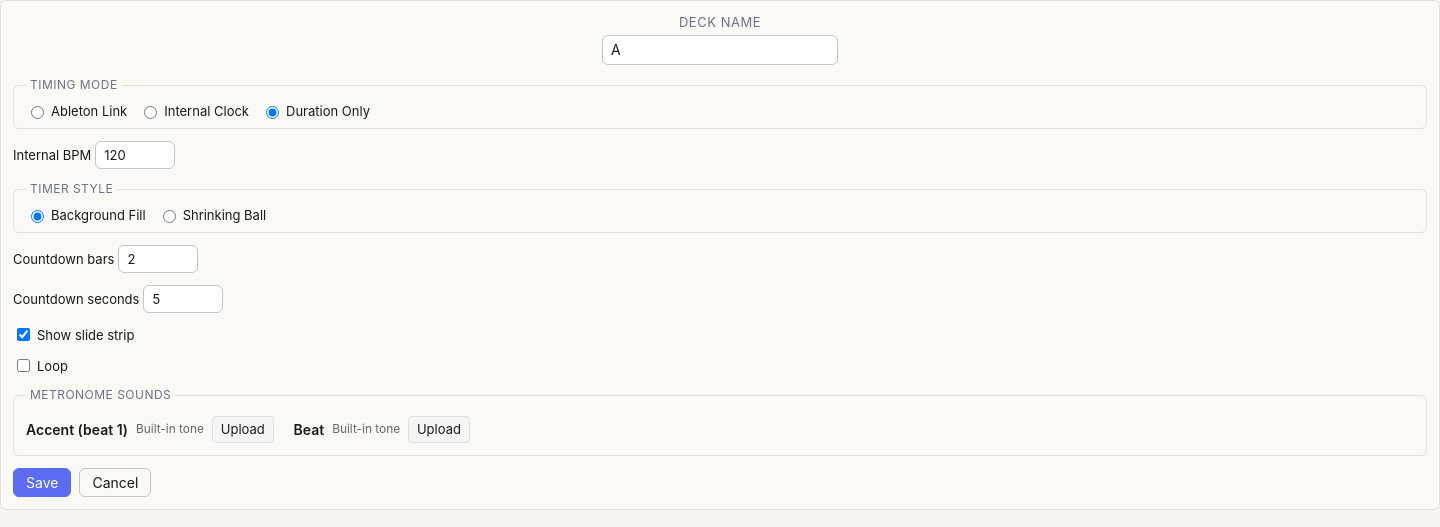
Test: DeckSettings › Cancel reverts edits to the persisted values
Step 1. Replace the text in the number field labelled "Internal BPM" with "60" → (135, 155), box [95,141,175,169]
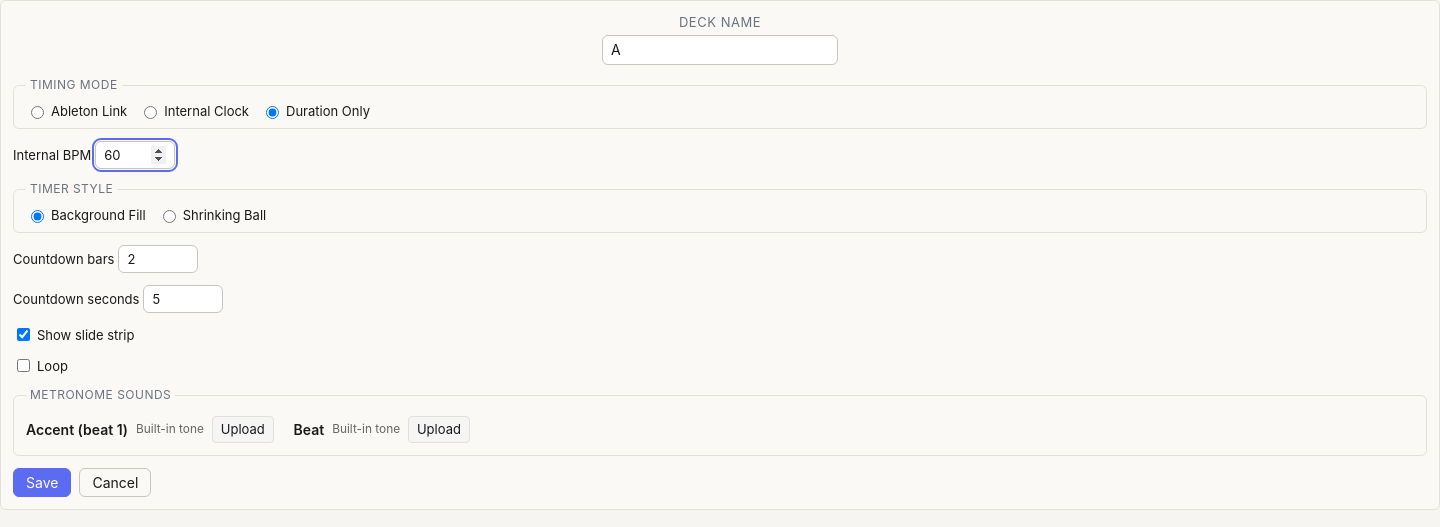
Step 2. Click the button "Cancel" → (115, 483), box [79,468,151,497]
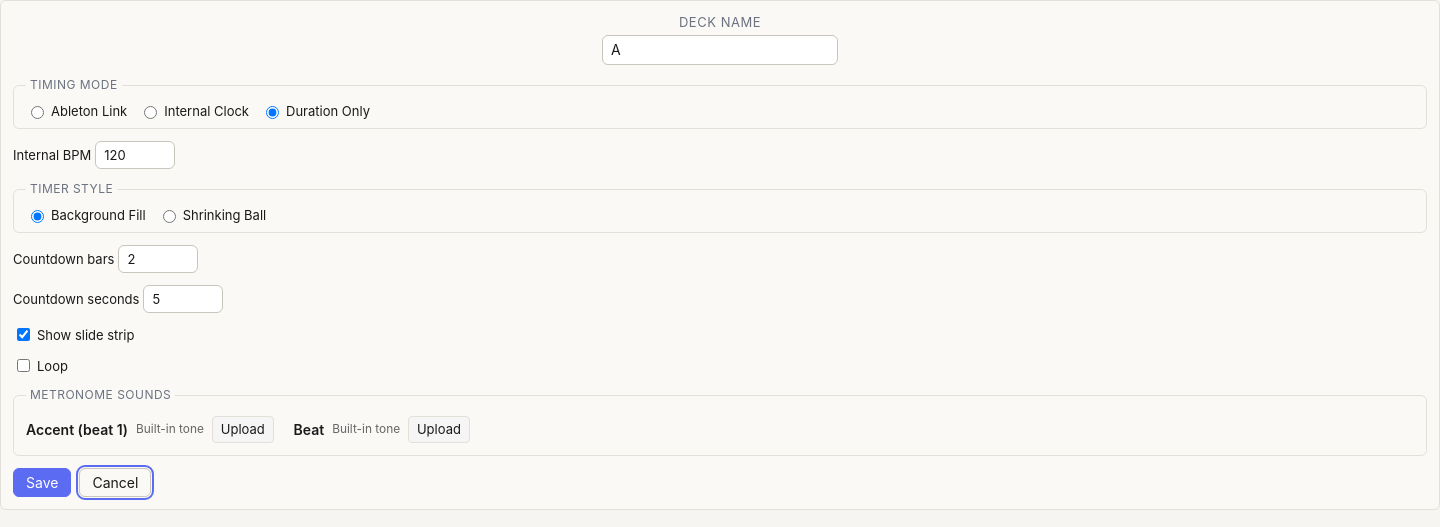
Expected: the number field labelled "Internal BPM" holds "120", [95,141,175,169]
